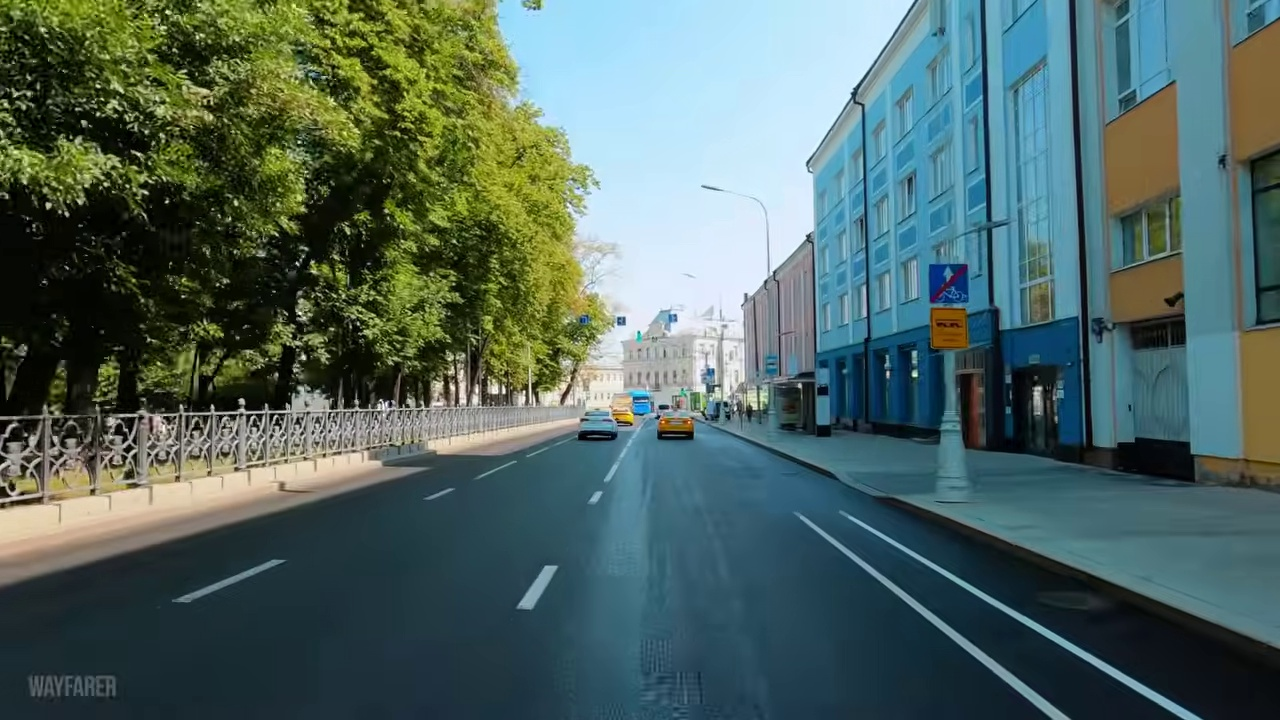apagada: (699, 177, 723, 199)
